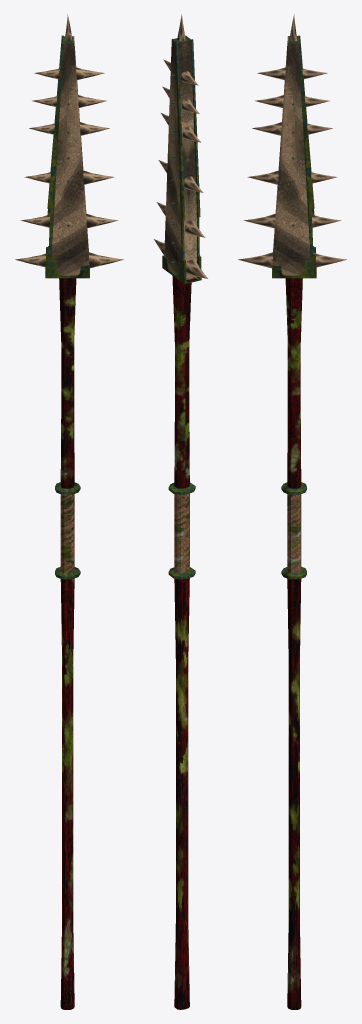
The model's file is lance malinal.FBX.
The picture shows the model from 3 angles, left to right: view 1: azimuth 90°, elevation 25°; view 2: azimuth 210°, elevation 25°; view 3: azimuth 270°, elevation 25°; orthographic projection.
Visible parts, largest first — view 1: lance; view 2: lance; view 3: lance.
Boxes of the visible parts, box(x1,y1,x2,y2) form: lance: box(15, 14, 123, 1009); lance: box(154, 14, 207, 1009); lance: box(238, 14, 346, 1009).
Bounding box in the file's own units: 22.31 × 967 × 97.19.
